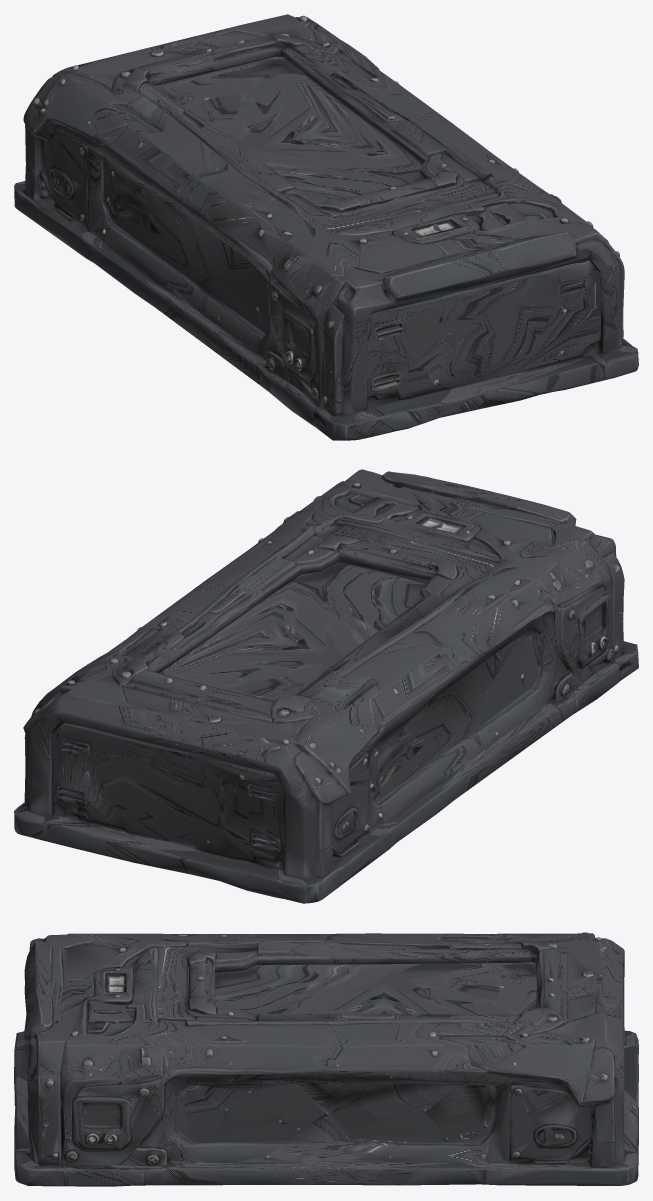
Rendered from sci_console.glb.
3 views of the same model, one above another, from view 1: azimuth 30°, elevation 25°; view 2: azimuth 150°, elevation 25°; view 3: azimuth 270°, elevation 25° (orthographic). The views are drawn at different scales.
Visible parts, largest first — view 1: tripo_node_6fc16690-be15-4494-b6ba-46e1dbb3a559; view 2: tripo_node_6fc16690-be15-4494-b6ba-46e1dbb3a559; view 3: tripo_node_6fc16690-be15-4494-b6ba-46e1dbb3a559.
Part boxes in pixels (x1,y1,x2,y2): tripo_node_6fc16690-be15-4494-b6ba-46e1dbb3a559: (14, 14, 638, 440); tripo_node_6fc16690-be15-4494-b6ba-46e1dbb3a559: (14, 469, 638, 903); tripo_node_6fc16690-be15-4494-b6ba-46e1dbb3a559: (14, 932, 638, 1186).
Size of the model in its own units: 0.5516 by 0.2484 by 0.9995.
Materials: 1 (1 with a texture image).
